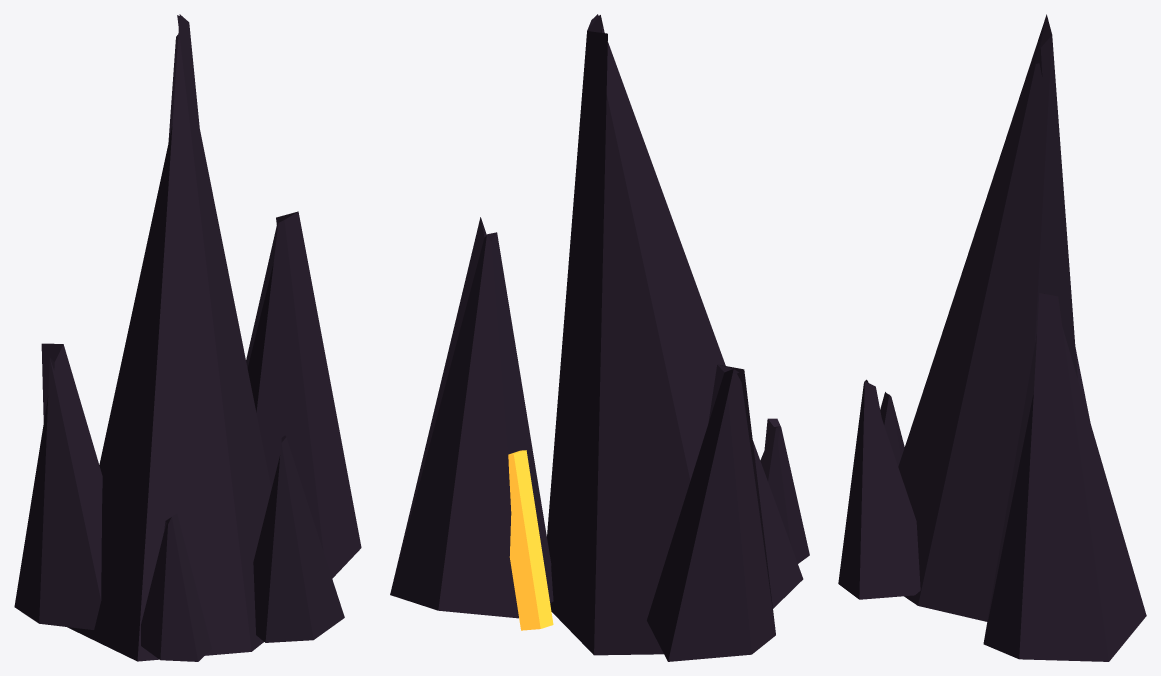
File: hd_obsidian.gltf
The picture shows the model from 3 angles, left to right: view 1: azimuth 30°, elevation 25°; view 2: azimuth 150°, elevation 25°; view 3: azimuth 270°, elevation 25°; orthographic projection. The views are drawn at different scales.
Visible parts, largest first — view 1: spike0, spike1, spike2, spike3, spike4; view 2: spike0, spike1, spike2, crack0, spike4; view 3: spike0, spike1, spike3, spike4.
Part boxes in pixels (x1,y1,x2,y2): spike0: (67,14,271,661); spike1: (246,211,361,578); spike2: (14,343,102,629); spike3: (253,435,344,642); spike4: (141,513,211,661); spike0: (547,14,803,655); spike1: (390,217,553,618); spike2: (647,364,775,661); crack0: (508,450,553,630); spike4: (760,418,809,563); spike0: (898,14,1077,621); spike1: (983,293,1146,661); spike3: (838,379,920,599); spike4: (880,392,904,466).
Size of the model in its own units: 1.33 by 2.3 by 1.1.
